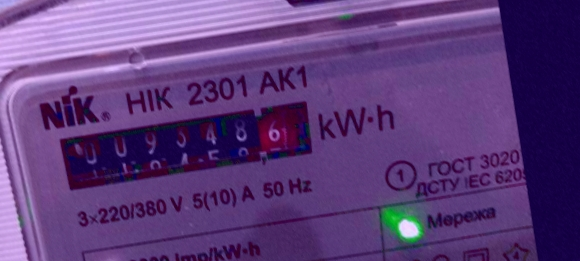0: (79, 136, 96, 164), (109, 131, 127, 156)
3: (169, 121, 187, 149)
4: (199, 117, 217, 146)
6: (261, 114, 282, 143)
8: (228, 113, 248, 143)
9: (139, 127, 157, 155)
screen: (47, 90, 323, 199)
